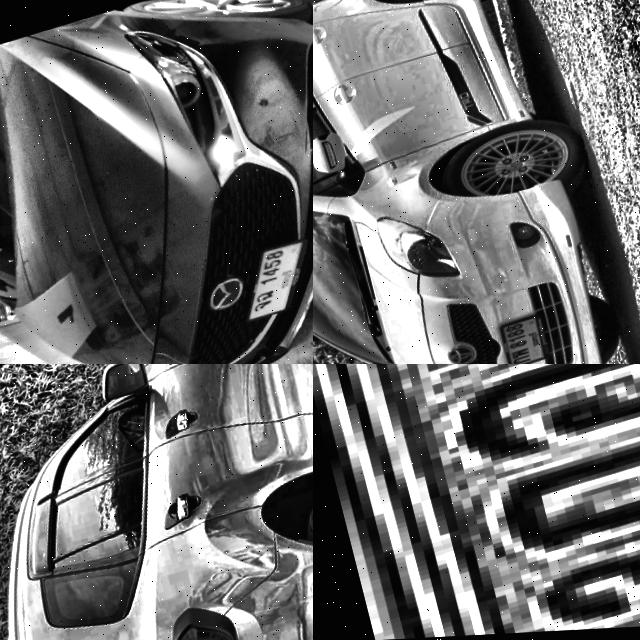license-plate: (313, 364, 640, 640), (224, 237, 313, 329), (486, 310, 555, 364)
